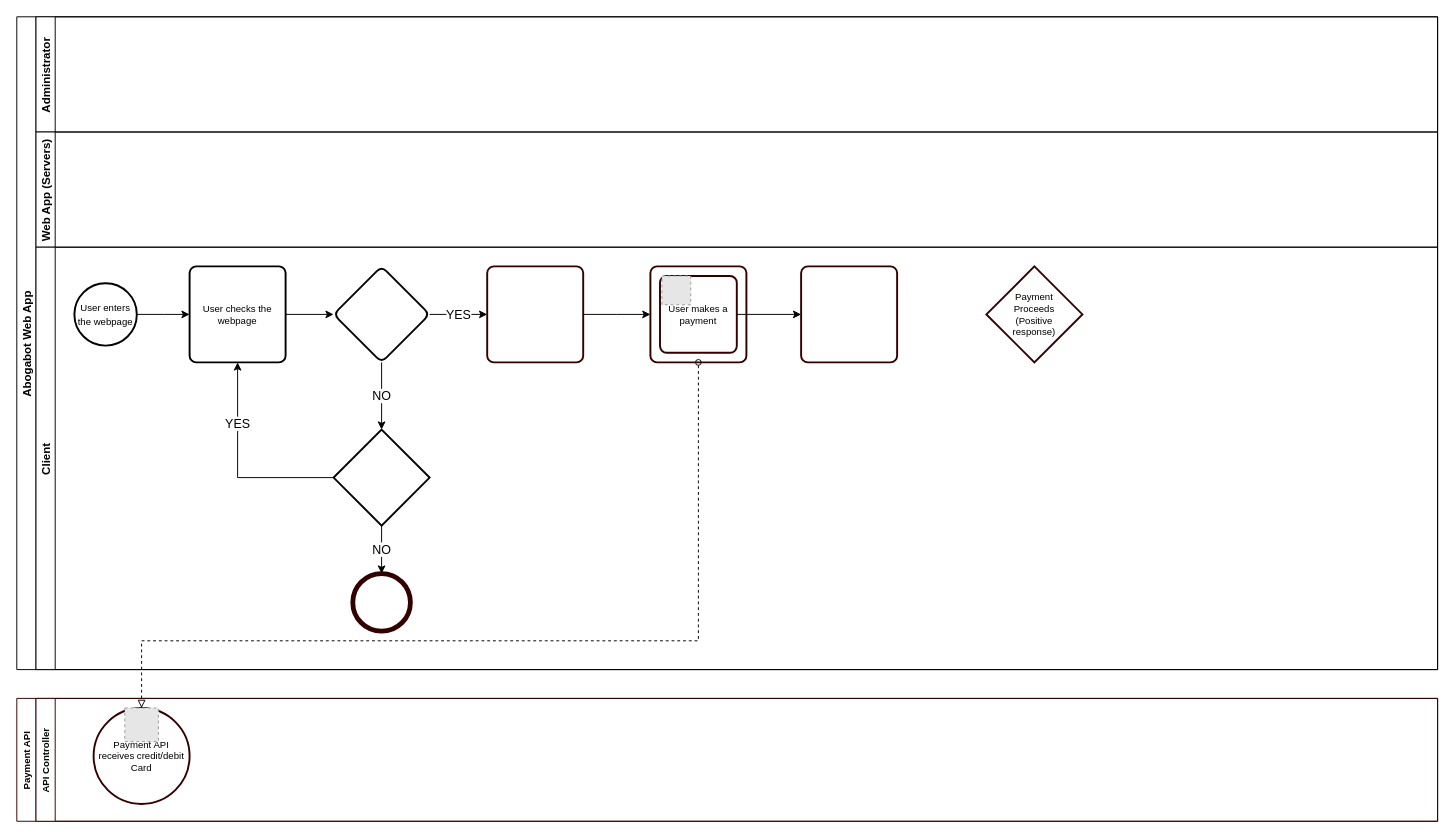
Some shapes in this 1454 by 838 pixel diagram are drawn without their labels. Grey dashed boxes stand in for pictures. Each missing label, with the centre of its shape:
"User fills a form with the required information" goes at (535,314).
"User quits the page" goes at (381,602).
"User receives API response" goes at (849,314).
"User wants to continue in the page" goes at (381,477).
"User wants to make a sue" goes at (381,314).
